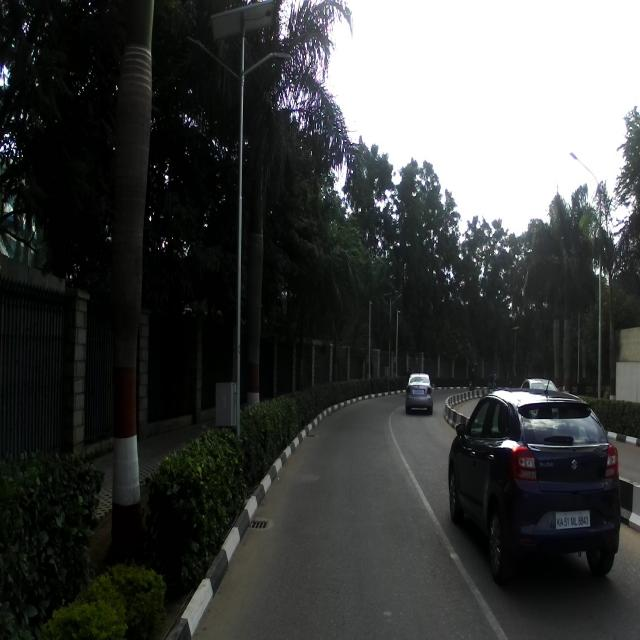car: (446, 381, 622, 587)
